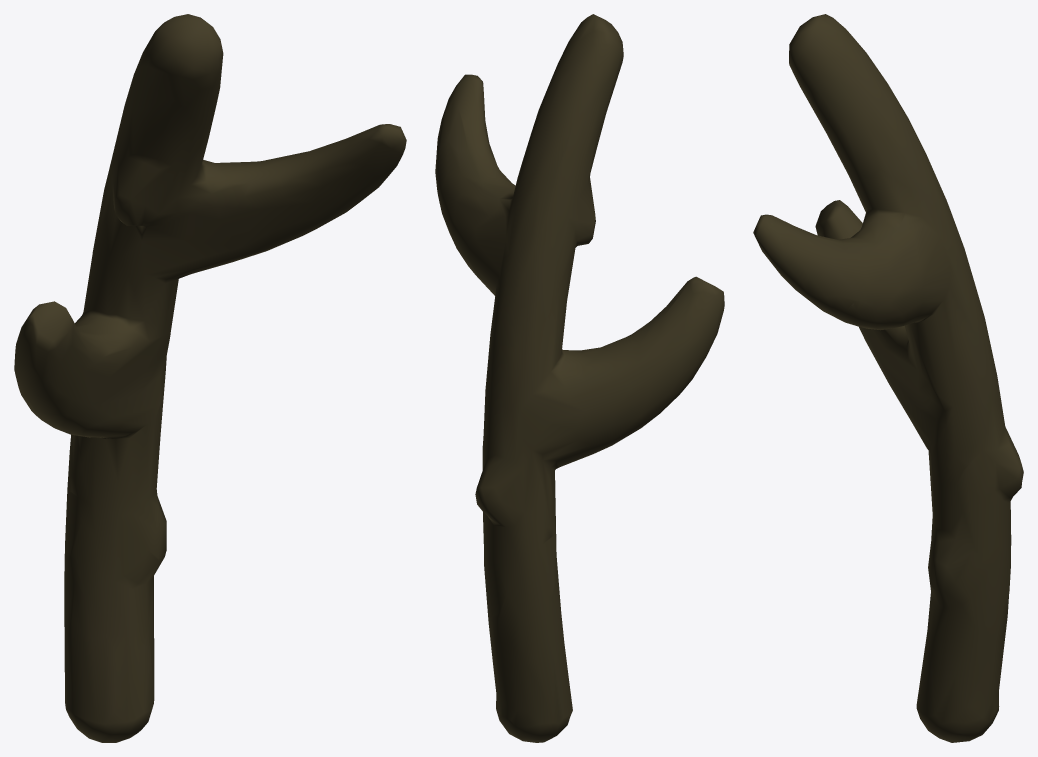
File: ss_stalk5.gltf
The picture shows the model from 3 angles, left to right: view 1: azimuth 30°, elevation 25°; view 2: azimuth 150°, elevation 25°; view 3: azimuth 270°, elevation 25°; orthographic projection. The views are drawn at different scales.
Parts seen in each view (by area): view 1: Layer_1.001; view 2: Layer_1.001; view 3: Layer_1.001.
Part boxes in pixels (<box>): Layer_1.001: <box>14,14,406,742</box>; Layer_1.001: <box>435,14,724,742</box>; Layer_1.001: <box>753,14,1023,742</box>.
Bounding box in the file's own units: 0.646 × 1.39 × 0.4706.
